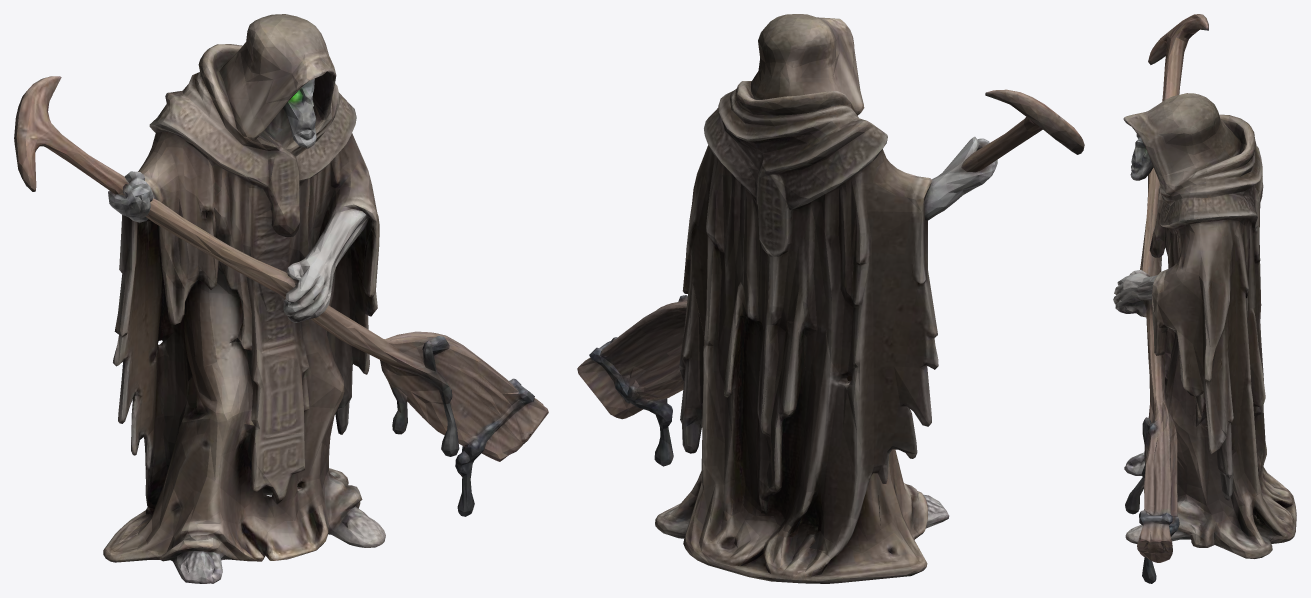
The model's file is ferryGhoul.glb.
3 views of the same model, side by side, from view 1: azimuth 30°, elevation 25°; view 2: azimuth 150°, elevation 25°; view 3: azimuth 270°, elevation 25° (orthographic). The views are drawn at different scales.
Parts seen in each view (by area): view 1: world; view 2: world; view 3: world.
Boxes of the visible parts, <box> form: world: <box>14,14,548,583</box>; world: <box>577,14,1084,583</box>; world: <box>1113,14,1296,583</box>.
Bounding box in the file's own units: 0.9989 × 0.9711 × 0.3774.
Materials: 1 (1 with a texture image).
